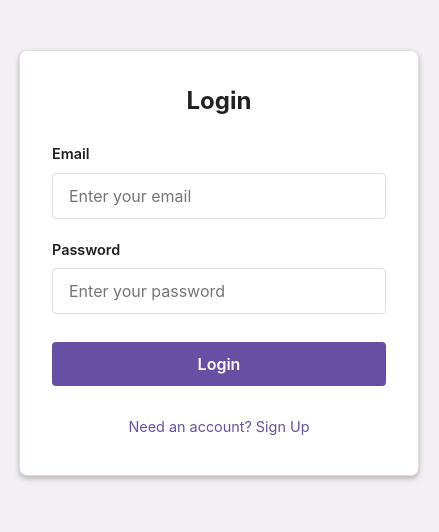
Auth Component › displays error message when login fails
Note: Fill in the form
Type "test@example.com" into the field labelled "Email". click: [219, 196]
box: [52,172,386,218]
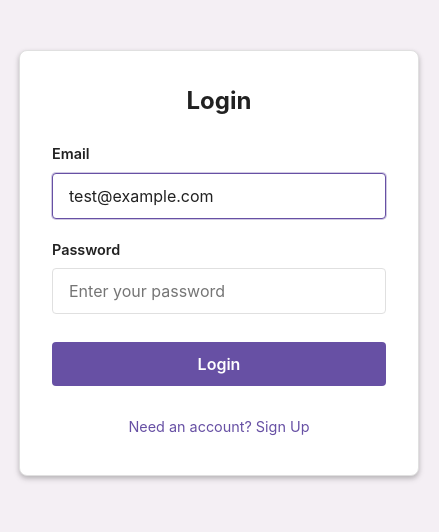
Type "wrongpassword" into the password field labelled "Password". click: [219, 291]
box: [52,268,386,314]
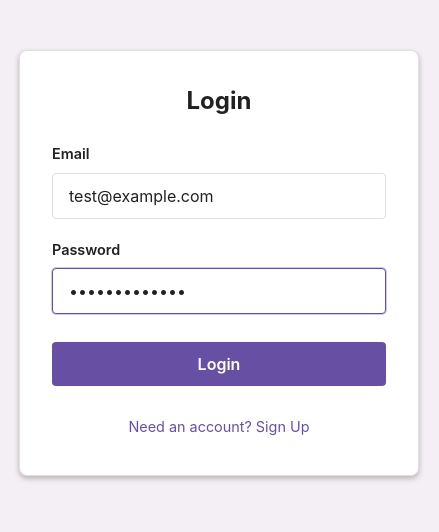
Note: Submit the form
Click the button "Login". click: [219, 364]
box: [52,342,386,386]
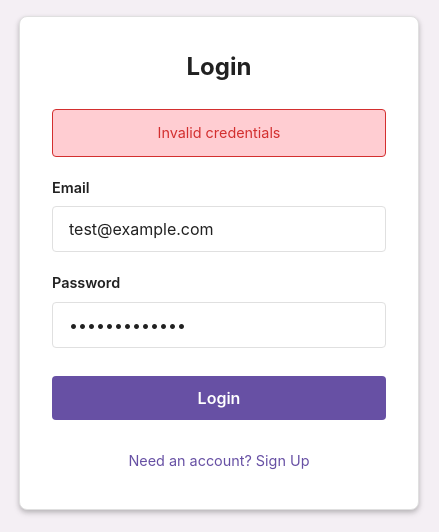
expect the text "Invalid credentials" is shown: met, box [52,109,386,157]
